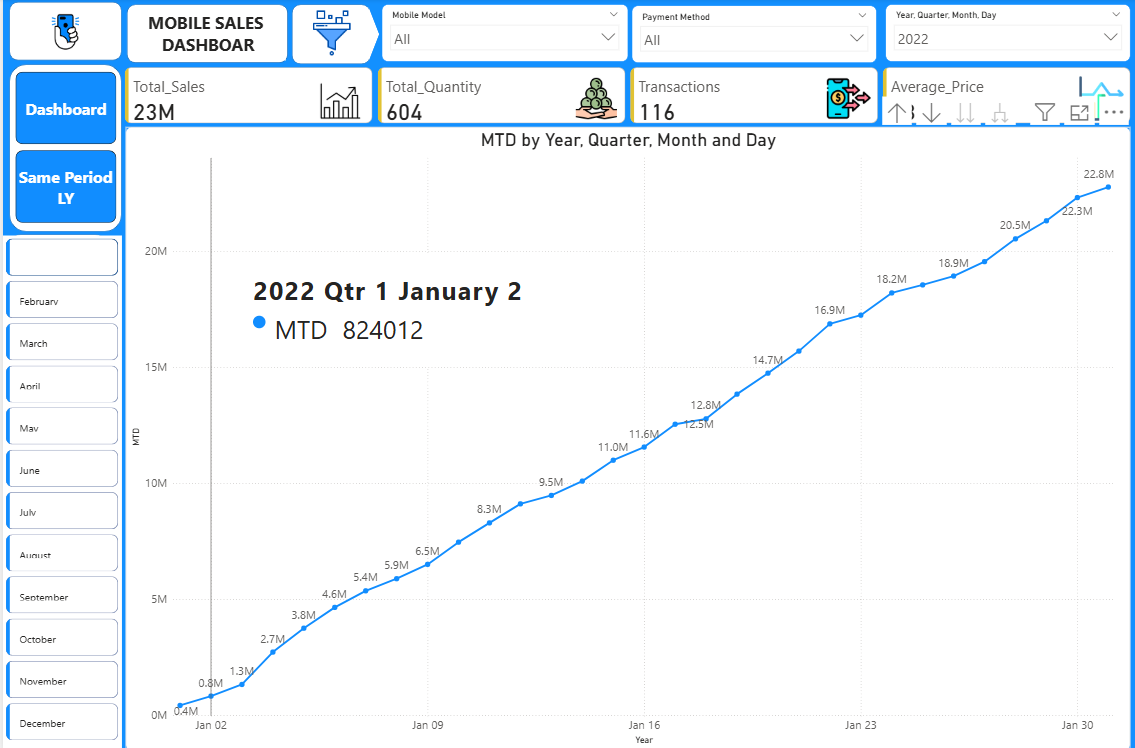

Layout of this report page (visuals, bound fields, positions):
{"tool":"powerbi","page":{"name":"MTD","canvas":[1800,1200],"ordinal":1},"visuals":[{"type":"shape","box":[9.9,6,178.6,93.3],"z":0},{"type":"image","box":[57.5,11.9,83.3,83.3],"z":1000},{"type":"shape","box":[4,375,166.7,805.6],"z":2000},{"type":"shape","box":[9.9,105.2,178.6,265.9],"z":3000},{"type":"advancedSlicerVisual","fields":{"Values":["Custom_Calendar.Date.Variation.Date Hierarchy.Month"]},"box":[0,377,188.5,817.5],"z":4000},{"type":"cardVisual","fields":{"Data":["Sales Data.Total_Sales","Sales Data.Total_Quantity","Sales Data.Transactions","Sales Data.Average_Price"]},"box":[188.5,105.2,1607.2,99.2],"z":5000},{"type":"slicer","fields":{"Values":["Sales Data.Mobile Model"]},"box":[601.2,9.9,390.9,91.3],"z":6000},{"type":"slicer","fields":{"Values":["Sales Data.Payment Method"]},"box":[998,11.9,388.9,91.3],"z":7000},{"type":"slicer","fields":{"Values":["Custom_Calendar.Date.Variation.Date Hierarchy.Year","Custom_Calendar.Date.Variation.Date Hierarchy.Quarter","Custom_Calendar.Date.Variation.Date Hierarchy.Month","Custom_Calendar.Date.Variation.Date Hierarchy.Day"]},"box":[1400.8,9.9,388.9,91.3],"z":8000},{"type":"shape","box":[458.3,9.9,125,95.2],"z":9000},{"type":"image","box":[464.3,13.9,115.1,83.3],"z":10000},{"type":"shape","box":[563.5,13.9,33.7,87.3],"z":11000},{"type":"shape","box":[196.4,9.9,256,93.3],"z":12000},{"type":"textbox","box":[202.4,15.9,246,83.3],"z":13000},{"type":"lineChart","fields":{"Y":["Sales Data.MTD"],"Category":["Custom_Calendar.Date.Variation.Date Hierarchy.Year","Custom_Calendar.Date.Variation.Date Hierarchy.Quarter","Custom_Calendar.Date.Variation.Date Hierarchy.Month","Custom_Calendar.Date.Variation.Date Hierarchy.Day"]},"box":[194.4,204.4,1595.2,990.1],"z":14000},{"type":"pageNavigator","box":[19.8,117.1,160.7,240.1],"z":15000}]}

Visuals, with their boxes on the page's 1800x1200 design canvas (x1, y1, x2, y2). These are canvas units, not pixel positions in the 1135x748 screenshot, which may show the page scaled, cropped or inside an application window:
shape: 10,6,188,99
image: 58,12,141,95
shape: 4,375,171,1181
shape: 10,105,188,371
advancedSlicerVisual - Custom_Calendar.Date.Variation.Date Hierarchy.Month: 0,377,188,1194
cardVisual - Sales Data.Total_Sales x Sales Data.Total_Quantity: 188,105,1796,204
slicer - Sales Data.Mobile Model: 601,10,992,101
slicer - Sales Data.Payment Method: 998,12,1387,103
slicer - Custom_Calendar.Date.Variation.Date Hierarchy.Year x Custom_Calendar.Date.Variation.Date Hierarchy.Quarter: 1401,10,1790,101
shape: 458,10,583,105
image: 464,14,579,97
shape: 564,14,597,101
shape: 196,10,452,103
textbox: 202,16,448,99
lineChart - Sales Data.MTD x Custom_Calendar.Date.Variation.Date Hierarchy.Year: 194,204,1790,1194
pageNavigator: 20,117,180,357
